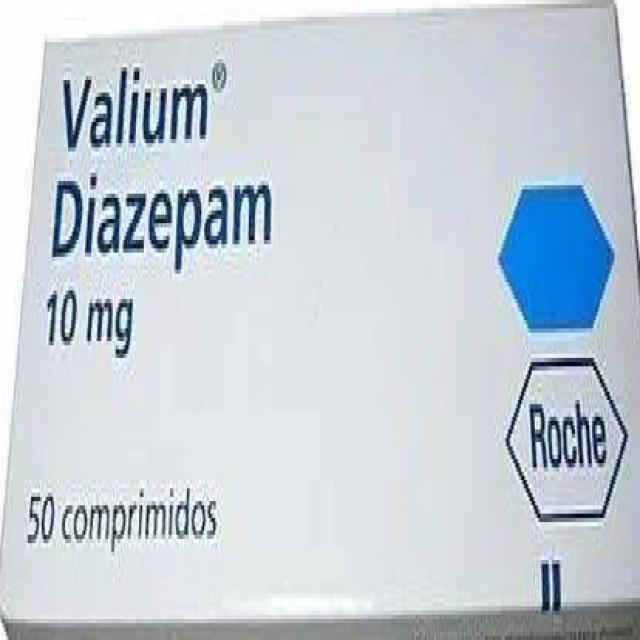drug-name: (57, 63, 210, 154)
